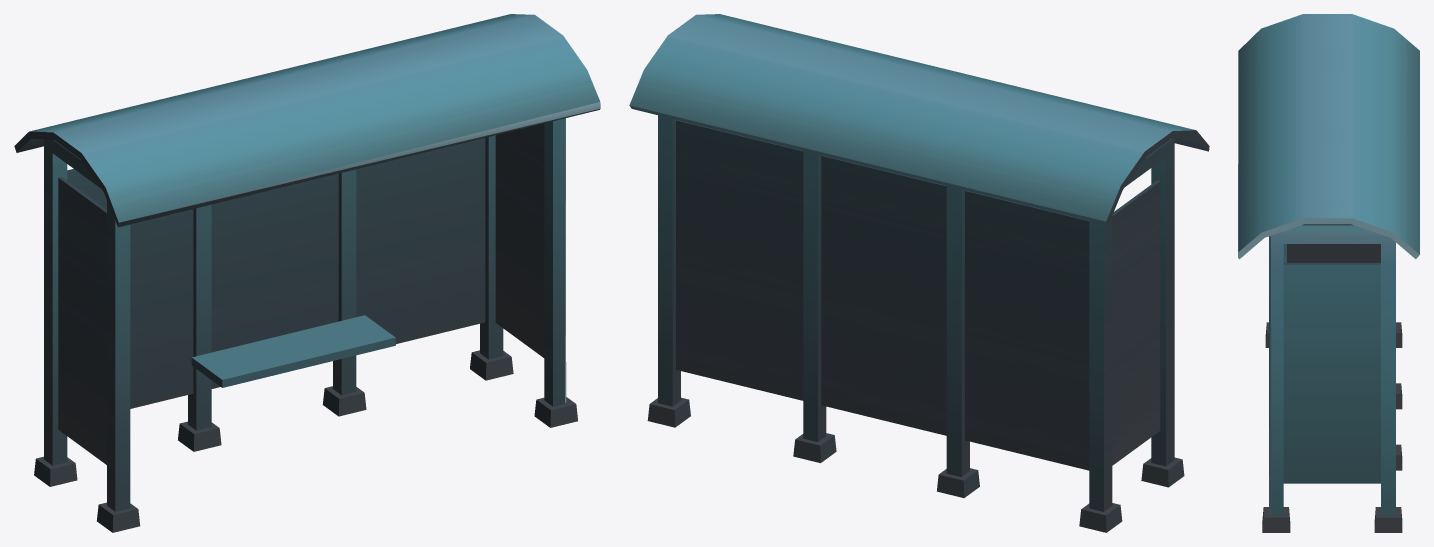
File: SM_Bus_Stop.fbx
3 views of the same model, side by side, from view 1: azimuth 30°, elevation 25°; view 2: azimuth 150°, elevation 25°; view 3: azimuth 270°, elevation 25° (orthographic). The views are drawn at different scales.
Parts seen in each view (by area): view 1: SM_Bus_Stop; view 2: SM_Bus_Stop; view 3: SM_Bus_Stop.
Part boxes in pixels (bbox=[...]): SM_Bus_Stop: bbox=[14, 14, 600, 532]; SM_Bus_Stop: bbox=[629, 14, 1209, 532]; SM_Bus_Stop: bbox=[1238, 14, 1419, 532].
Size of the model in its own units: 462 by 336 by 174.
